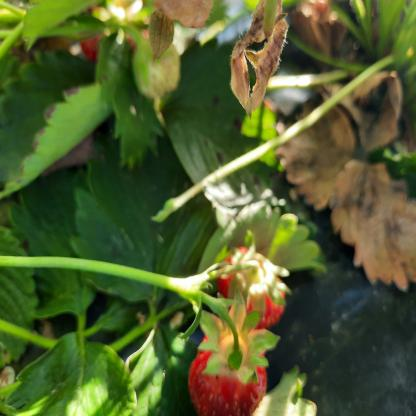ripe: (191, 332, 263, 416), (217, 249, 284, 324)
